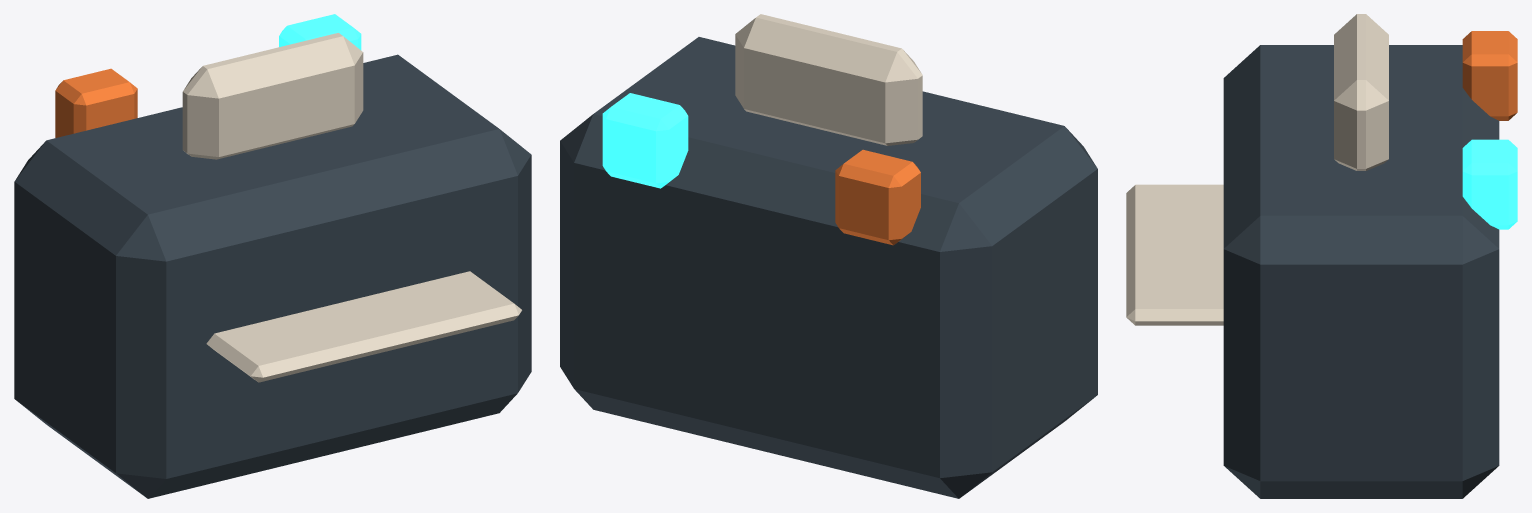
File: LP_PortableBattery_0p5m.fbx
3 renders of one model, left to right at view 1: azimuth 30°, elevation 25°; view 2: azimuth 150°, elevation 25°; view 3: azimuth 270°, elevation 25°, orthographic. The views are drawn at different scales.
Visible parts, largest first — view 1: BatteryBody, BatteryHandle, BatteryPanel, BatteryTerminalL, BatteryTerminalR; view 2: BatteryBody, BatteryHandle, BatteryTerminalR, BatteryTerminalL; view 3: BatteryBody, BatteryPanel, BatteryHandle, BatteryTerminalR, BatteryTerminalL.
Boxes of the visible parts, box(x1,y1,x2,y2) form: BatteryBody: box(14, 54, 531, 498); BatteryHandle: box(182, 33, 363, 159); BatteryPanel: box(206, 271, 521, 382); BatteryTerminalL: box(55, 68, 137, 137); BatteryTerminalR: box(279, 14, 361, 50); BatteryBody: box(560, 37, 1097, 498); BatteryHandle: box(735, 14, 922, 145); BatteryTerminalR: box(602, 93, 688, 188); BatteryTerminalL: box(835, 149, 920, 245); BatteryBody: box(1223, 45, 1499, 498); BatteryPanel: box(1126, 184, 1223, 325); BatteryHandle: box(1334, 14, 1388, 170); BatteryTerminalR: box(1462, 139, 1517, 229); BatteryTerminalL: box(1462, 31, 1517, 120).
Size of the model in its own units: 52 by 44 by 42.6.
